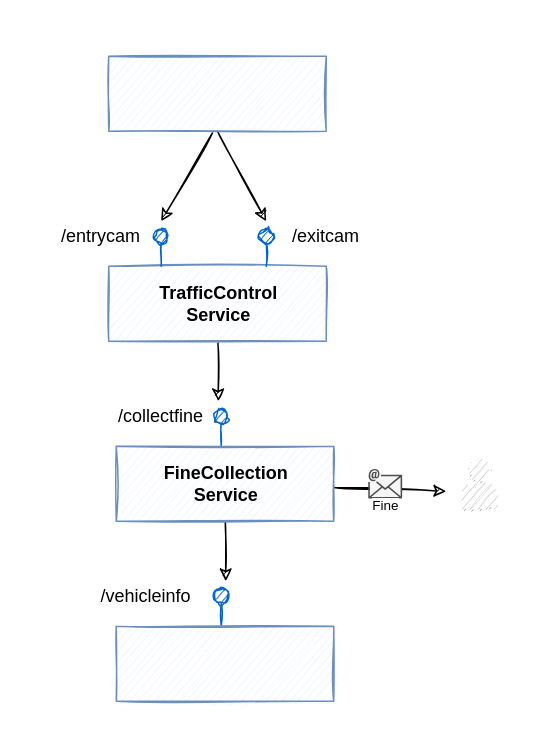
Some shapes in this 546 by 756 pixel diagram are drawn without their labels. Each missing label, with the box of its shape:
Camera Simulation Service: (107, 55, 326, 131)
VehicleRegistration Service: (115, 625, 334, 701)
